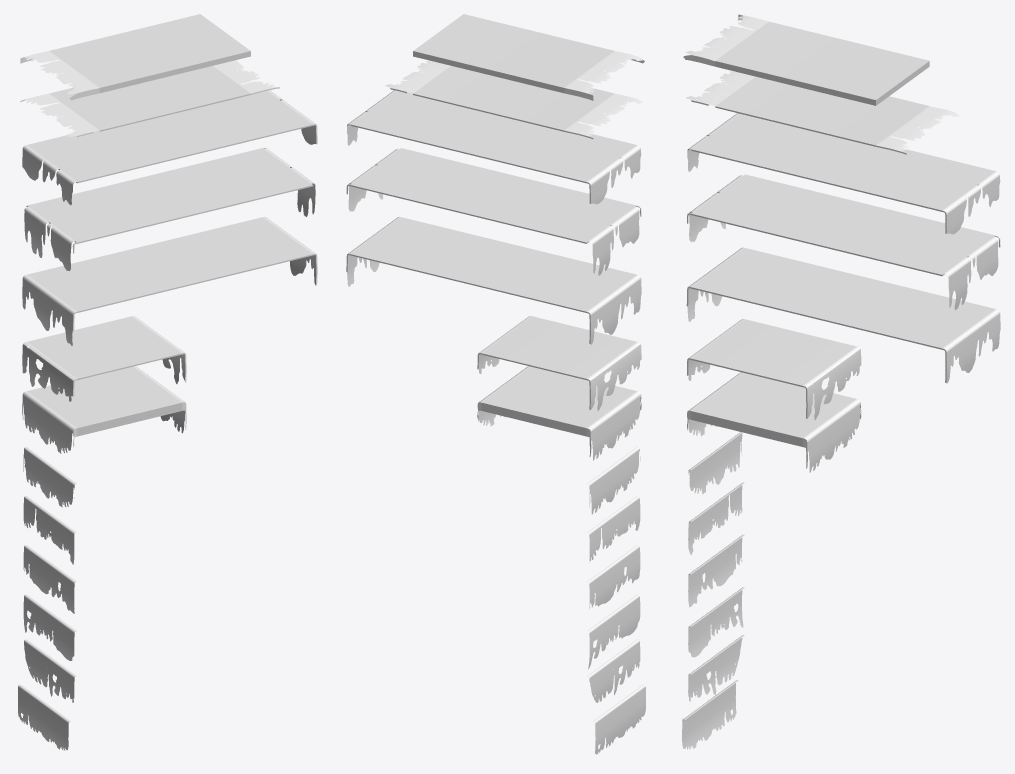
File: carpets.FBX
3 renders of one model, left to right at view 1: azimuth 30°, elevation 25°; view 2: azimuth 150°, elevation 25°; view 3: azimuth 330°, elevation 25°, orthographic. The views are drawn at different scales.
Parts seen in each view (by area): view 1: carpet_large, carpet_mid02, carpet_mid, carpet_str_end, carpet_str, carpet_small, Carpet_small2, carpet_end7 (×2), carpet_end, carpet_end4, carpet_end3, carpet_end6 (+3 smaller); view 2: carpet_large, carpet_mid02, carpet_mid, carpet_str_end, carpet_str, carpet_small, Carpet_small2, carpet_end7 (×2), carpet_end, carpet_end4, carpet_end3, carpet_end6 (+3 smaller); view 3: carpet_large, carpet_mid02, carpet_mid, carpet_str_end, carpet_str, carpet_small, Carpet_small2, carpet_end7 (×2), carpet_end, carpet_end4, carpet_end3, carpet_end6 (+3 smaller).
Part boxes in pixels (box(x1,y1,x2,y2)): carpet_large: box(22, 216, 317, 345); carpet_mid02: box(26, 148, 313, 243); carpet_mid: box(27, 91, 313, 183); carpet_str_end: box(20, 14, 250, 100); carpet_str: box(20, 60, 279, 137); carpet_small: box(22, 366, 186, 453); Carpet_small2: box(22, 316, 186, 401); carpet_end7 (×2): box(24, 147, 315, 270); carpet_end: box(18, 684, 70, 750); carpet_end4: box(23, 545, 76, 613); carpet_end3: box(23, 594, 76, 660); carpet_end6: box(23, 447, 76, 507); carpet_large: box(346, 216, 641, 344); carpet_mid02: box(350, 148, 637, 243); carpet_mid: box(350, 91, 636, 183); carpet_str_end: box(413, 14, 644, 100); carpet_str: box(385, 61, 642, 139); carpet_small: box(477, 366, 641, 460); Carpet_small2: box(477, 316, 641, 410); carpet_end7 (×2): box(346, 148, 641, 275); carpet_end: box(593, 684, 645, 754); carpet_end4: box(587, 545, 640, 608); carpet_end3: box(587, 594, 640, 668); carpet_end6: box(587, 447, 640, 514); carpet_large: box(686, 247, 1000, 383); carpet_mid02: box(691, 174, 995, 276); carpet_mid: box(691, 114, 995, 211); carpet_str_end: box(683, 14, 929, 105); carpet_str: box(685, 71, 959, 154); carpet_small: box(687, 372, 861, 472); Carpet_small2: box(687, 319, 861, 419); carpet_end7 (×2): box(687, 175, 1000, 310); carpet_end: box(682, 680, 738, 749); carpet_end4: box(688, 534, 744, 606); carpet_end3: box(688, 587, 744, 657); carpet_end6: box(688, 432, 742, 494).
Bounding box in the file's own units: 600 × 1510 × 208.
1 material, 1 textured.
